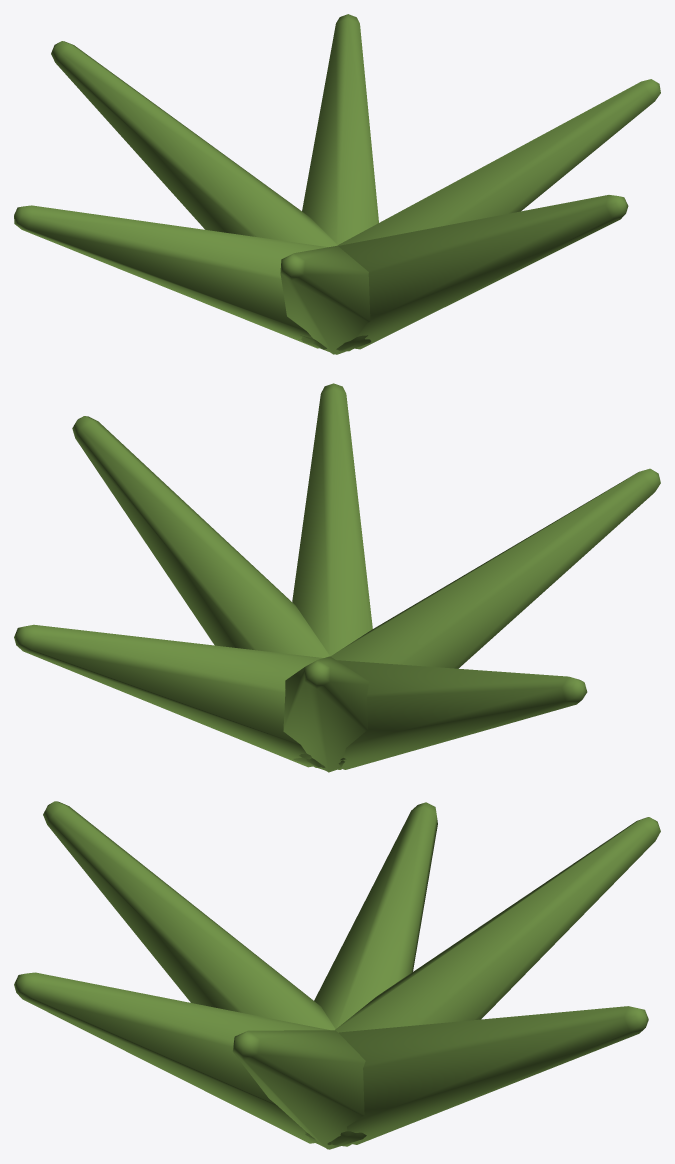
File: prop_fern3_7a25.glb
3 views of the same model, one above another, from view 1: azimuth 30°, elevation 25°; view 2: azimuth 150°, elevation 25°; view 3: azimuth 270°, elevation 25° (orthographic). The views are drawn at different scales.
Parts seen in each view (by area): view 1: prop_fern3_7a25; view 2: prop_fern3_7a25; view 3: prop_fern3_7a25.
Boxes of the visible parts, x1,y1,x2,y2 form: prop_fern3_7a25: (14,14,660,354); prop_fern3_7a25: (14,383,660,772); prop_fern3_7a25: (14,801,660,1149).
Size of the model in its own units: 0.6231 by 0.2482 by 0.5693.
Materials: 1 (1 with a texture image).
